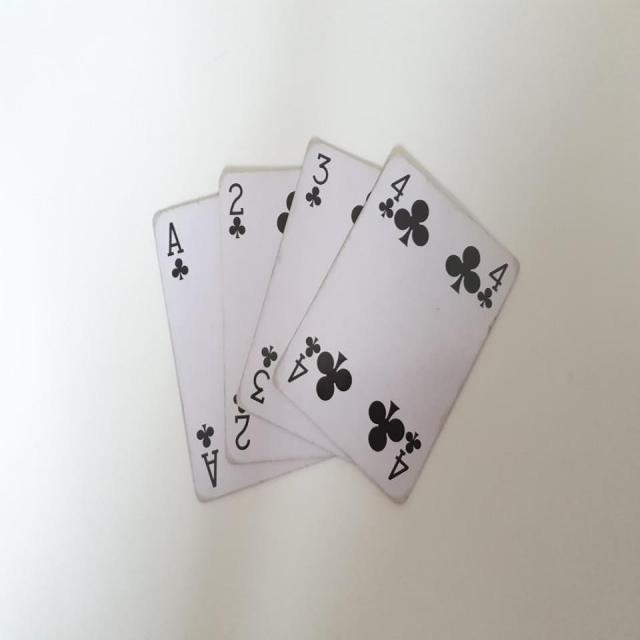2 Trefoils: (219, 168, 334, 463)
3 Trefoils: (236, 135, 385, 466)
4 Trefoils: (271, 152, 520, 505)
A Trefoils: (152, 193, 337, 502)
